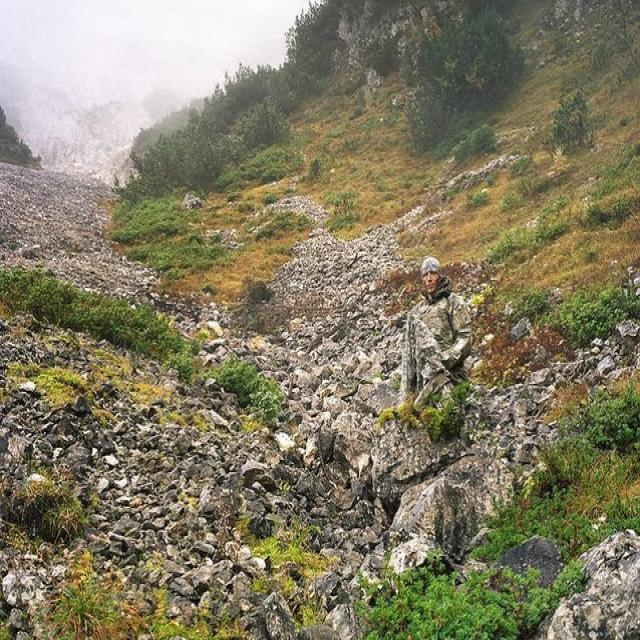Camouflage: (396, 258, 475, 431)
